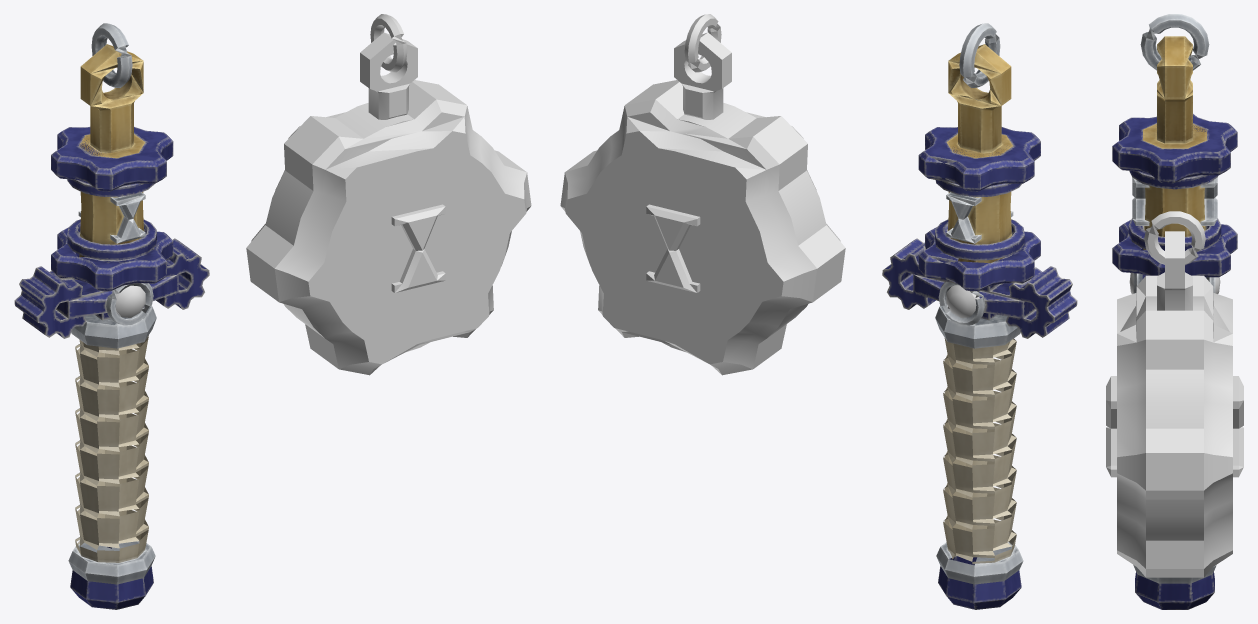
File: Pendulum Tether.fbx
3 renders of one model, left to right at view 1: azimuth 30°, elevation 25°; view 2: azimuth 150°, elevation 25°; view 3: azimuth 270°, elevation 25°, orthographic. The views are drawn at different scales.
Parts seen in each view (by area): view 1: HeadWeight, Pendulum Tether_Body, TopLug.001, HeadBoss, TopRing.001, Pendulum Tether_Glow; view 2: HeadWeight, Pendulum Tether_Body, TopLug.001, HeadBoss, TopRing.001, Pendulum Tether_Glow; view 3: HeadWeight, Pendulum Tether_Body, TopLug.001, HeadBoss, TopRing.001.
Part boxes in pixels (x1,y1,x2,y2): HeadWeight: (246, 80, 531, 375); Pendulum Tether_Body: (14, 23, 209, 609); TopLug.001: (360, 32, 417, 119); HeadBoss: (391, 204, 445, 292); TopRing.001: (370, 14, 407, 72); Pendulum Tether_Glow: (115, 285, 145, 317); HeadWeight: (560, 80, 845, 375); Pendulum Tether_Body: (882, 23, 1077, 609); TopLug.001: (674, 32, 731, 119); HeadBoss: (646, 204, 700, 292); TopRing.001: (684, 14, 721, 72); Pendulum Tether_Glow: (946, 285, 979, 317); HeadWeight: (1117, 275, 1232, 577); Pendulum Tether_Body: (1112, 14, 1237, 609); TopLug.001: (1157, 231, 1192, 310); HeadBoss: (1106, 376, 1243, 477); TopRing.001: (1144, 211, 1205, 264).
Bounding box in the file's own units: 1.6 × 1.78 × 0.38.
